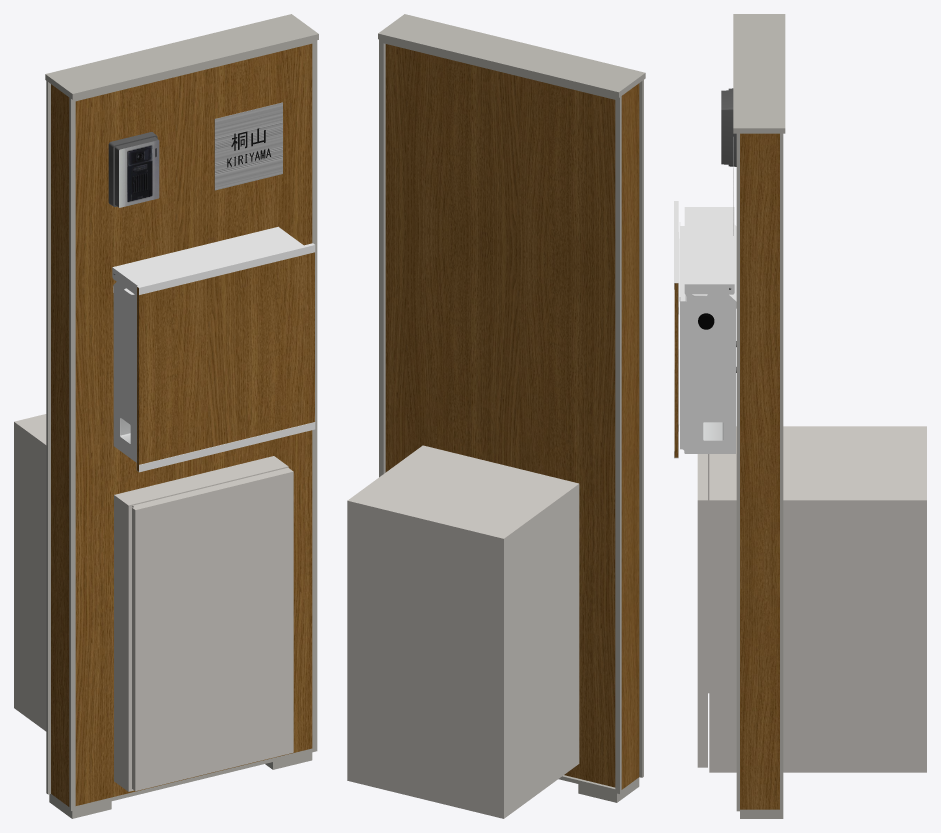
The model's file is da-boxmonchu_cherryoak.fbx.
3 renders of one model, left to right at view 1: azimuth 30°, elevation 25°; view 2: azimuth 150°, elevation 25°; view 3: azimuth 270°, elevation 25°, orthographic. The views are drawn at different scales.
Visible parts, largest first — view 1: cherryoak; view 2: cherryoak; view 3: cherryoak.
Part boxes in pixels (x1,y1,x2,y2): cherryoak: (14, 14, 318, 818); cherryoak: (347, 14, 645, 818); cherryoak: (674, 14, 926, 818).
Bounding box in the file's own units: 53.1 × 150 × 49.65.
11 materials, 3 textured.
